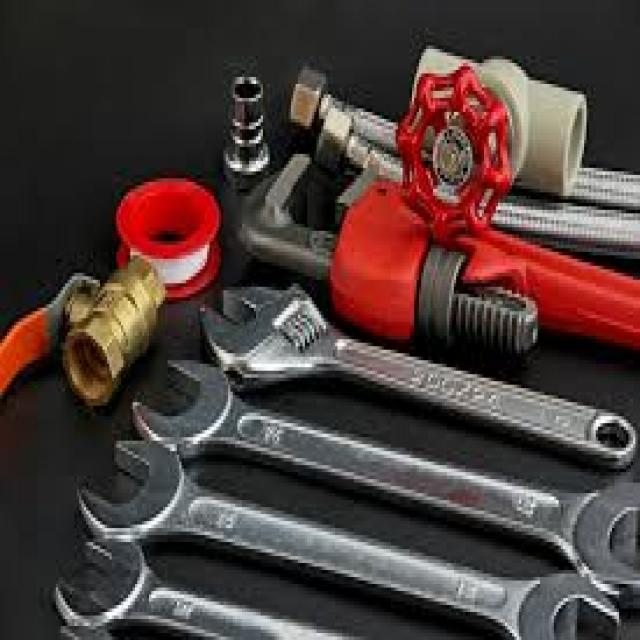wrench: (128, 346, 640, 598), (72, 430, 615, 640), (192, 268, 640, 469), (49, 547, 360, 640)
